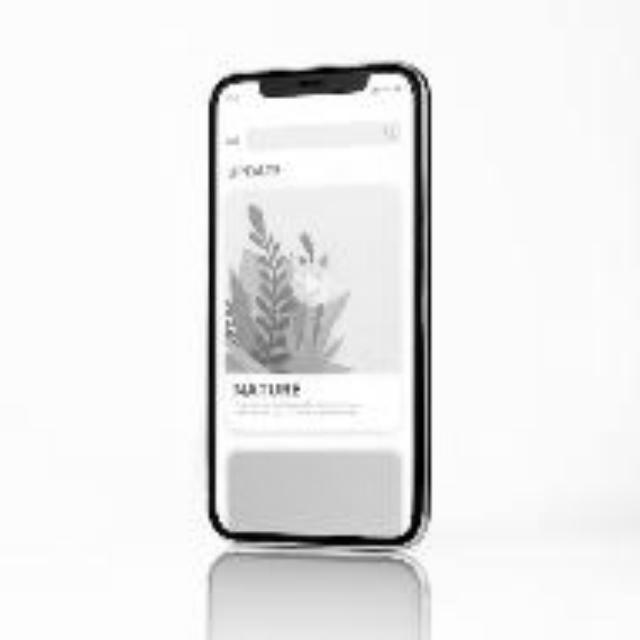fake: (208, 60, 430, 542)
